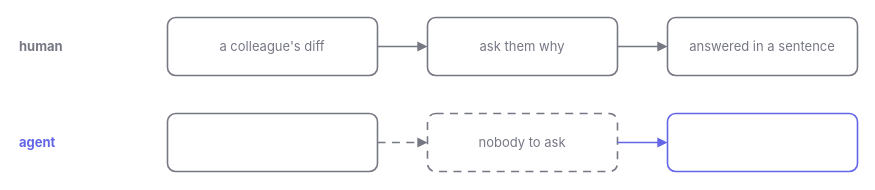
This 875x190 diagram has some shape labels left out. The centre of each missing label's shape, as x and y in pixels:
an agent's diff: pixel 272 142
tests, contracts, decision records: pixel 762 142
